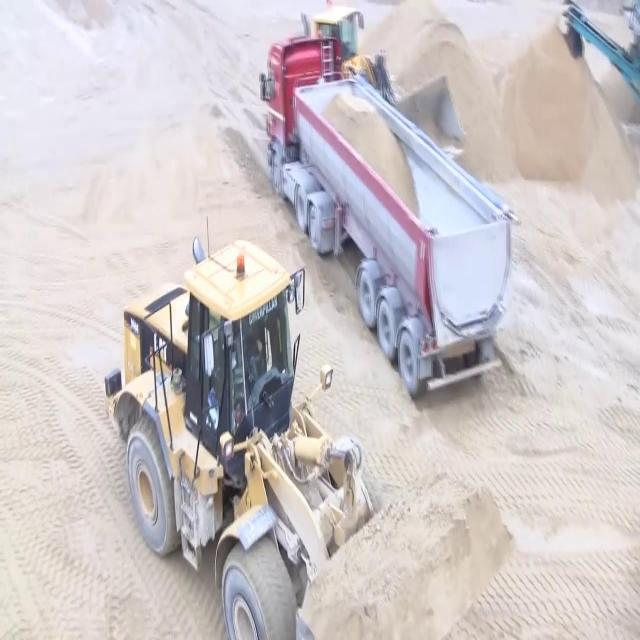Dump Truck: (258, 8, 520, 401)
Loader: (103, 212, 515, 639)
